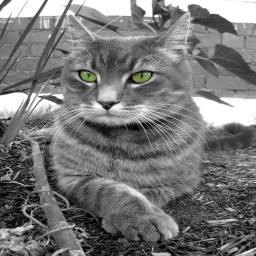catnose: (94, 98, 120, 112)
